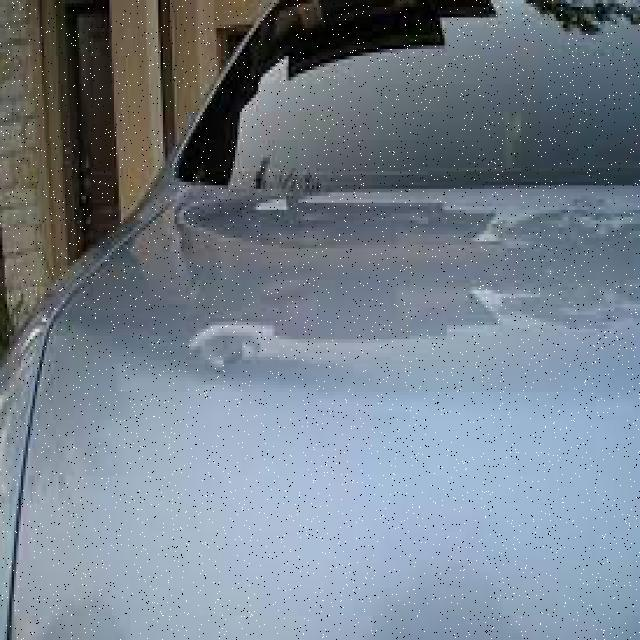bonnet-dent: (26, 231, 638, 636)
